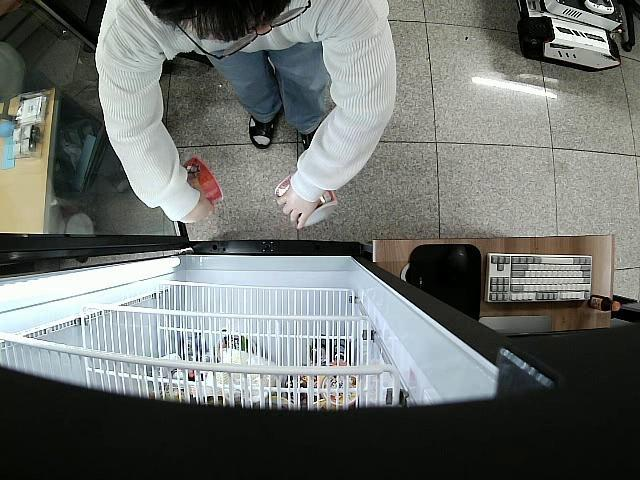01_ShinRamen_L: (275, 171, 339, 230), (183, 157, 224, 203)
